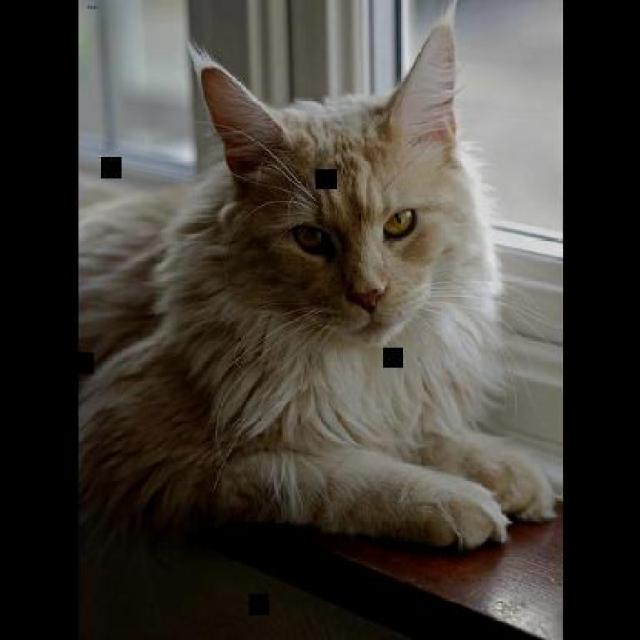unauthorized: (75, 0, 559, 555)
